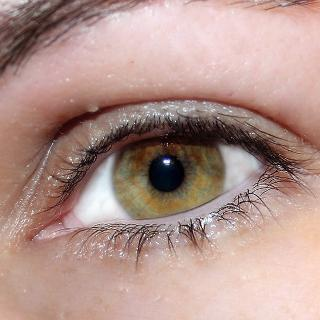pupil: (149, 156, 184, 191)
